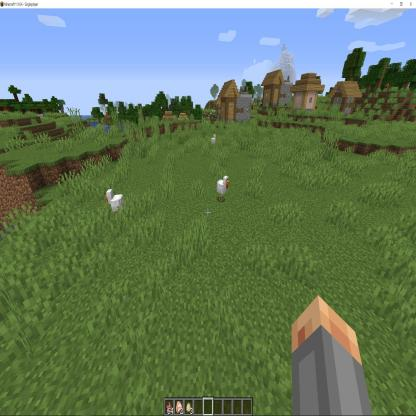minecraft-pigs: (104, 186, 124, 218), (215, 174, 230, 203), (210, 133, 217, 151)
